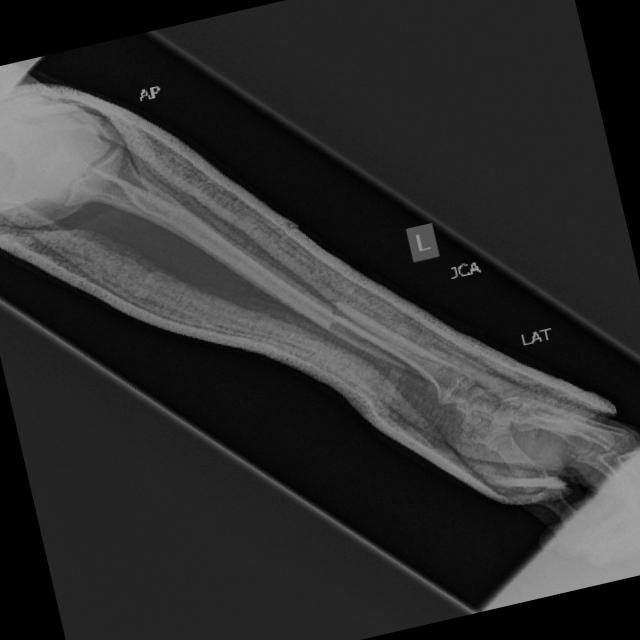forearm fracture: (295, 271, 394, 365)
